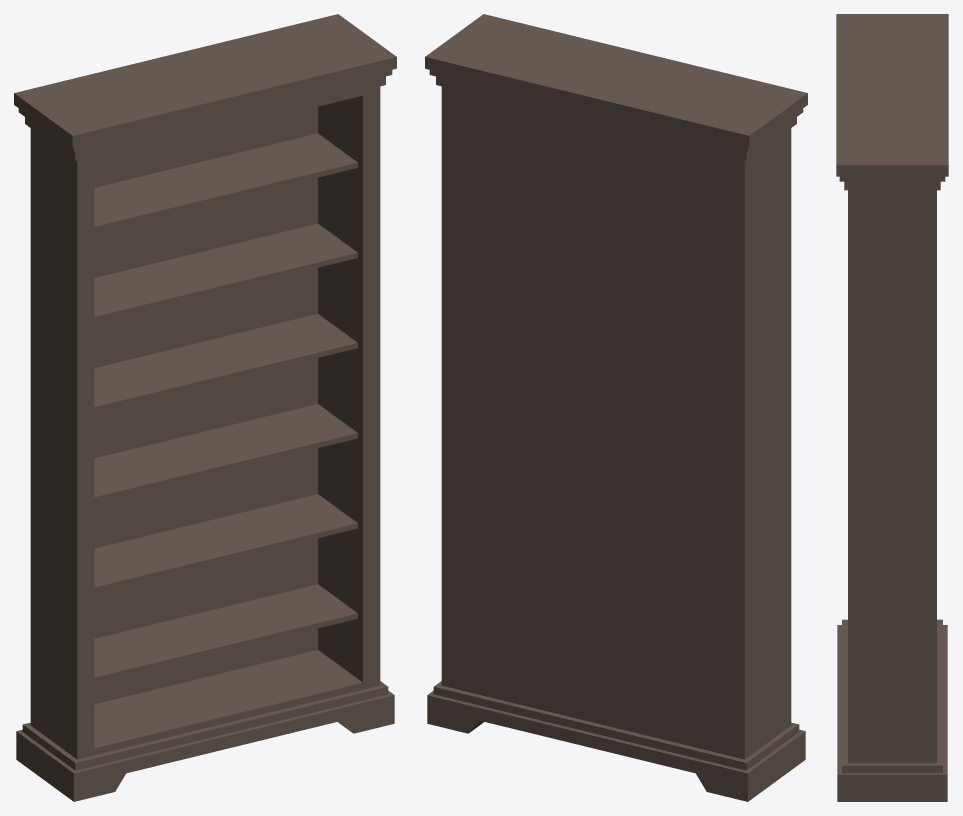
Rendered from Bookcase2.fbx.glb.
3 views of the same model, side by side, from view 1: azimuth 30°, elevation 25°; view 2: azimuth 150°, elevation 25°; view 3: azimuth 270°, elevation 25° (orthographic). The views are drawn at different scales.
Visible parts, largest first — view 1: Bookcase2.1; view 2: Bookcase2.1; view 3: Bookcase2.1.
Part boxes in pixels (box(x1,y1,x2,y2)): Bookcase2.1: box(14, 14, 396, 801); Bookcase2.1: box(425, 14, 807, 801); Bookcase2.1: box(836, 14, 948, 801).
Bounding box in the file's own units: 121 × 238 × 37.95.
